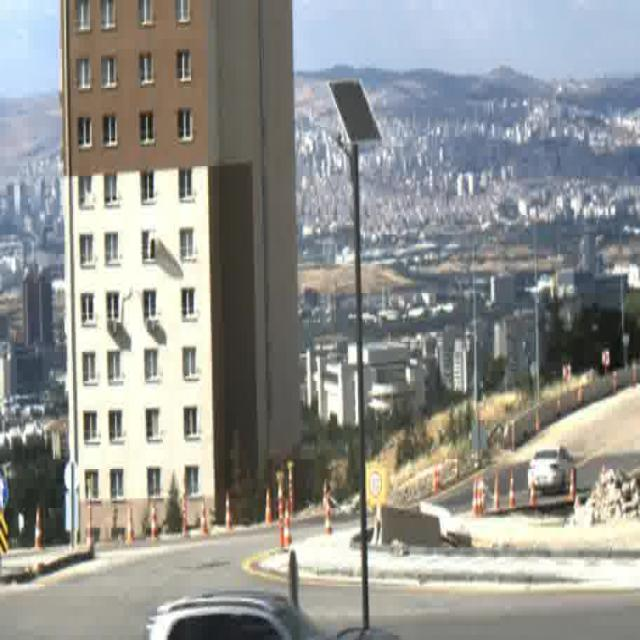Car: (147, 595, 399, 640), (526, 453, 575, 495)
